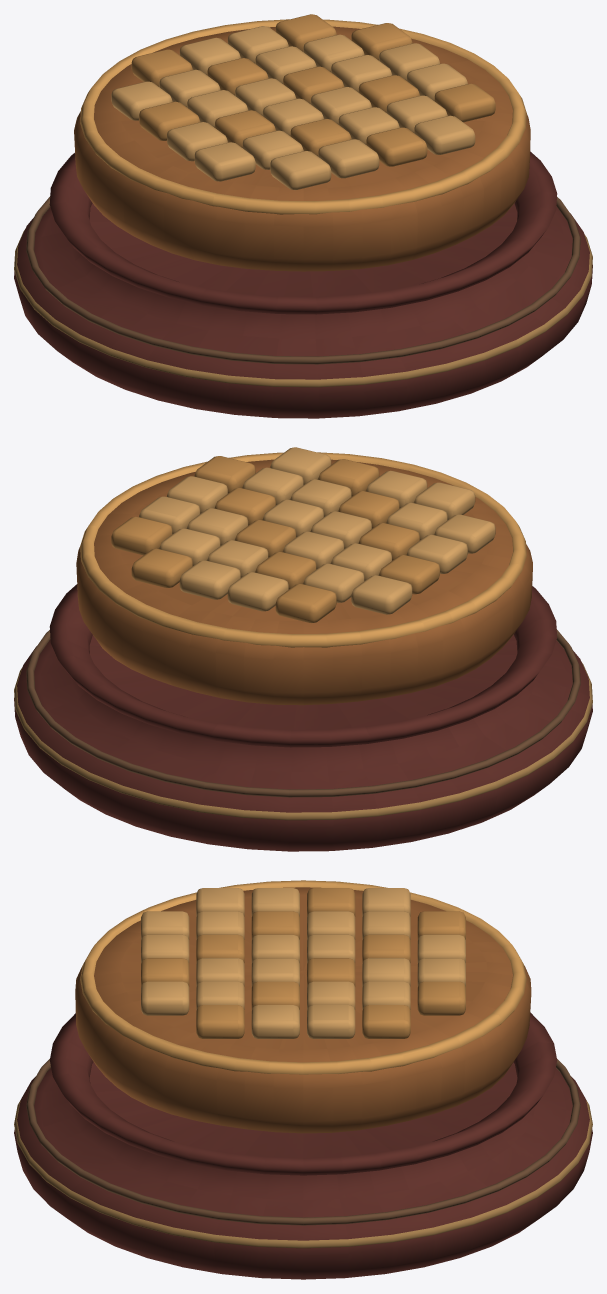
The model's file is waffle.glb.
3 renders of one model, top to bottom at view 1: azimuth 30°, elevation 25°; view 2: azimuth 150°, elevation 25°; view 3: azimuth 270°, elevation 25°, orthographic.
Visible parts, largest first — view 1: Shared_burgundy_dessert_plate, Waffle_thick_round_golden_body, Waffle_rounded_crisp_outer_edge, Shared_deep_recessed_band, Shared_antique_brass_outer_rim, Waffle_baked_grid_cell_0_1, Waffle_baked_grid_cell_1_0, Waffle_baked_grid_cell_2_0, Waffle_baked_grid_cell_3_0, Waffle_baked_grid_cell_4_0, Waffle_baked_grid_cell_5_1, Waffle_baked_grid_cell_0_4 (+25 smaller); view 2: Shared_burgundy_dessert_plate, Waffle_thick_round_golden_body, Waffle_rounded_crisp_outer_edge, Shared_deep_recessed_band, Shared_antique_brass_outer_rim, Waffle_baked_grid_cell_0_4, Waffle_baked_grid_cell_1_5, Waffle_baked_grid_cell_2_5, Waffle_baked_grid_cell_3_5, Waffle_baked_grid_cell_4_5, Waffle_baked_grid_cell_5_4, Waffle_baked_grid_cell_0_1 (+25 smaller); view 3: Shared_burgundy_dessert_plate, Waffle_thick_round_golden_body, Waffle_rounded_crisp_outer_edge, Shared_deep_recessed_band, Shared_antique_brass_outer_rim, Waffle_baked_grid_cell_4_0, Waffle_baked_grid_cell_4_5, Waffle_baked_grid_cell_5_2, Waffle_baked_grid_cell_5_3, Waffle_baked_grid_cell_5_1, Waffle_baked_grid_cell_5_4, Waffle_baked_grid_cell_1_1 (+25 smaller).
Part boxes in pixels (x1,y1,x2,y2): Shared_burgundy_dessert_plate: [14, 151, 592, 418]; Waffle_thick_round_golden_body: [74, 26, 530, 271]; Waffle_rounded_crisp_outer_edge: [80, 19, 526, 214]; Shared_deep_recessed_band: [26, 196, 580, 364]; Shared_antique_brass_outer_rim: [14, 229, 592, 387]; Waffle_baked_grid_cell_0_1: [194, 142, 255, 181]; Waffle_baked_grid_cell_1_0: [270, 151, 331, 190]; Waffle_baked_grid_cell_2_0: [318, 139, 379, 178]; Waffle_baked_grid_cell_3_0: [366, 127, 427, 166]; Waffle_baked_grid_cell_4_0: [414, 115, 475, 154]; Waffle_baked_grid_cell_5_1: [434, 83, 495, 122]; Waffle_baked_grid_cell_0_4: [111, 81, 172, 120]; Shared_burgundy_dessert_plate: [14, 584, 592, 851]; Waffle_thick_round_golden_body: [76, 459, 532, 705]; Waffle_rounded_crisp_outer_edge: [80, 452, 526, 647]; Shared_deep_recessed_band: [26, 629, 580, 797]; Shared_antique_brass_outer_rim: [14, 662, 592, 820]; Waffle_baked_grid_cell_0_4: [351, 575, 412, 614]; Waffle_baked_grid_cell_1_5: [275, 584, 336, 623]; Waffle_baked_grid_cell_2_5: [227, 572, 288, 611]; Waffle_baked_grid_cell_3_5: [179, 560, 240, 599]; Waffle_baked_grid_cell_4_5: [131, 548, 192, 587]; Waffle_baked_grid_cell_5_4: [111, 516, 172, 555]; Waffle_baked_grid_cell_0_1: [434, 514, 495, 553]; Shared_burgundy_dessert_plate: [14, 1012, 592, 1279]; Waffle_thick_round_golden_body: [75, 887, 531, 1133]; Waffle_rounded_crisp_outer_edge: [80, 880, 526, 1074]; Shared_deep_recessed_band: [26, 1059, 580, 1225]; Shared_antique_brass_outer_rim: [14, 1100, 592, 1248]; Waffle_baked_grid_cell_4_0: [141, 981, 189, 1015]; Waffle_baked_grid_cell_4_5: [417, 981, 465, 1015]; Waffle_baked_grid_cell_5_2: [251, 1005, 299, 1038]; Waffle_baked_grid_cell_5_3: [307, 1005, 355, 1038]; Waffle_baked_grid_cell_5_1: [196, 1005, 244, 1038]; Waffle_baked_grid_cell_5_4: [362, 1005, 410, 1038]; Waffle_baked_grid_cell_1_1: [196, 911, 244, 939].
Bounding box in the file's own units: 0.858 × 0.3485 × 0.858.
